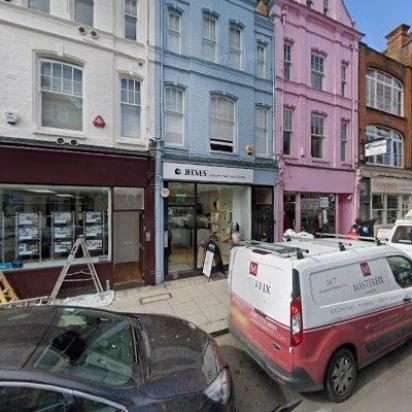stationary-car-onstreet: (0, 303, 234, 411)
stationary-light-truck-onstreet: (225, 230, 409, 406), (384, 214, 412, 270)
